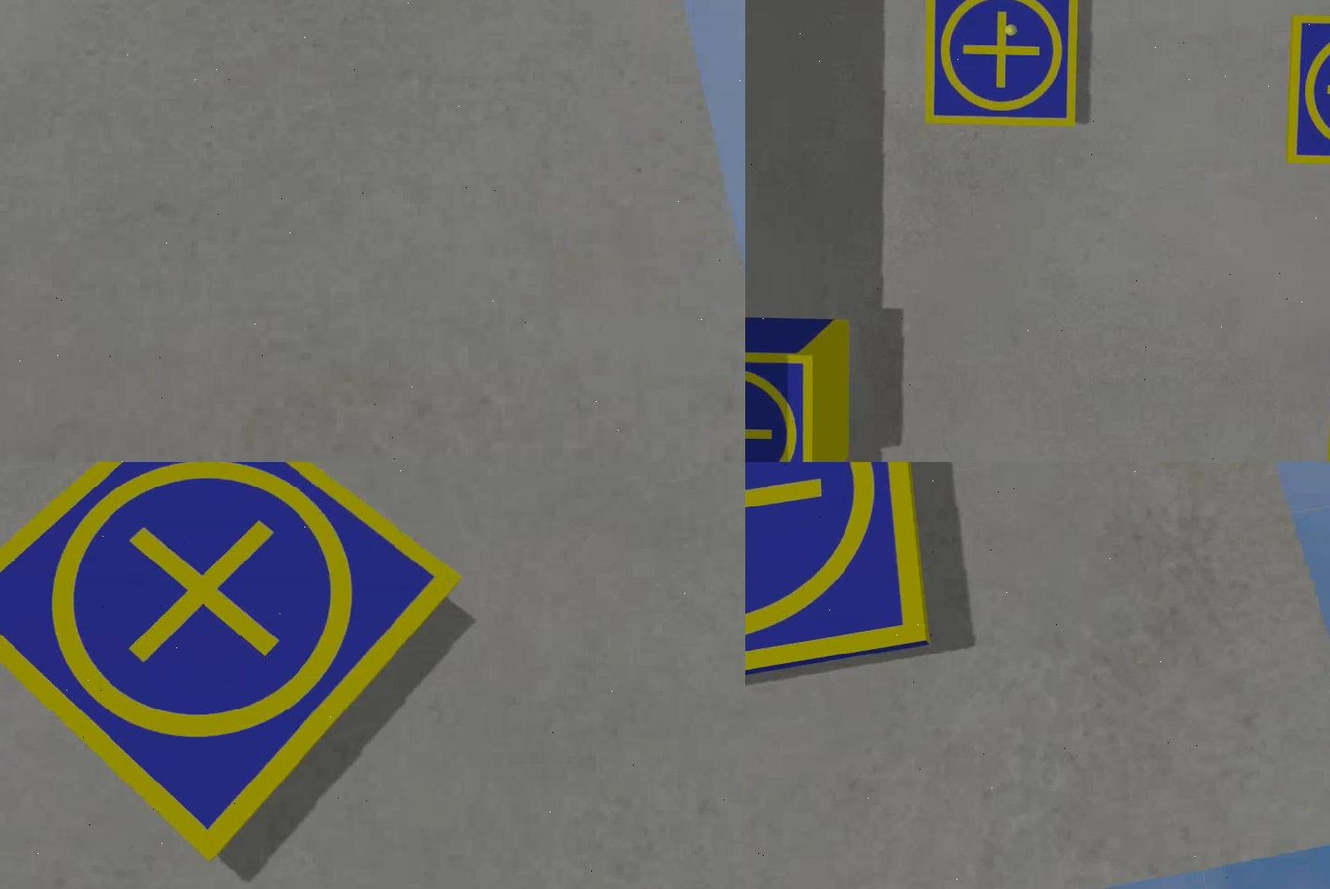small_base: (0, 462, 464, 860), (744, 462, 928, 713), (924, 1, 1076, 131), (744, 347, 813, 462), (1284, 11, 1328, 169)
